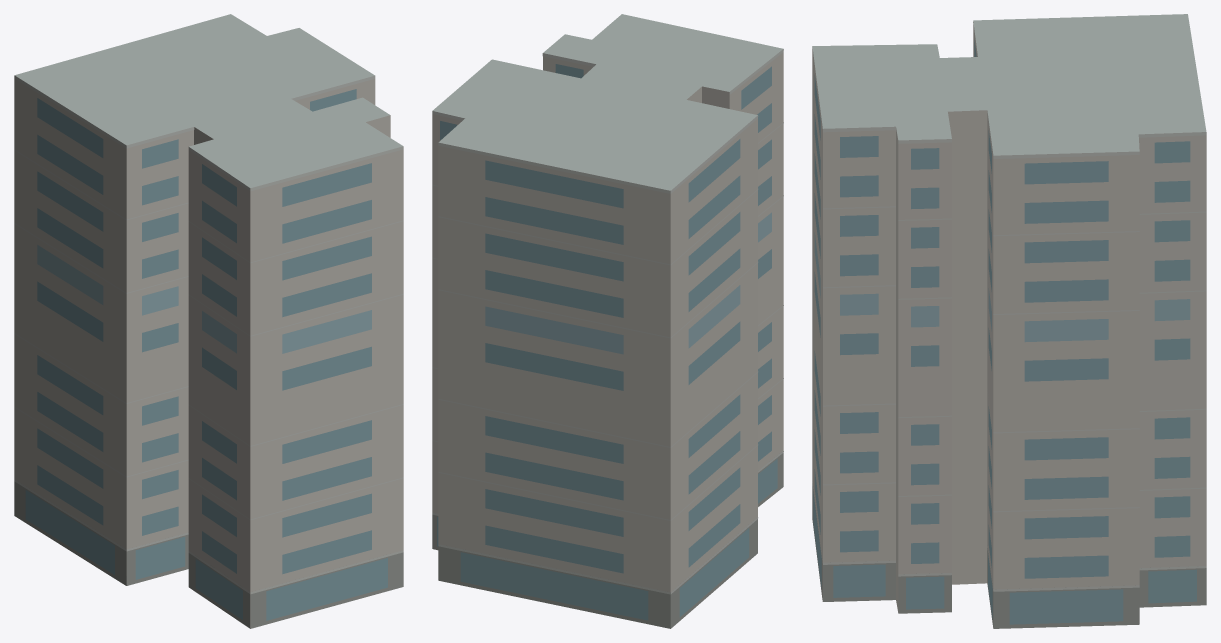
File: survey-upis-32744450.glb
3 renders of one model, left to right at view 1: azimuth 30°, elevation 25°; view 2: azimuth 150°, elevation 25°; view 3: azimuth 270°, elevation 25°, orthographic. The views are drawn at different scales.
Visible parts, largest first — view 1: survey-upis-32744450.tmp; view 2: survey-upis-32744450.tmp; view 3: survey-upis-32744450.tmp.
Part boxes in pixels (box(x1,y1,x2,y2)): survey-upis-32744450.tmp: box(14, 14, 403, 628); survey-upis-32744450.tmp: box(432, 14, 783, 628); survey-upis-32744450.tmp: box(812, 14, 1206, 628).
Bounding box in the file's own units: 21.73 × 33.8 × 25.53.
